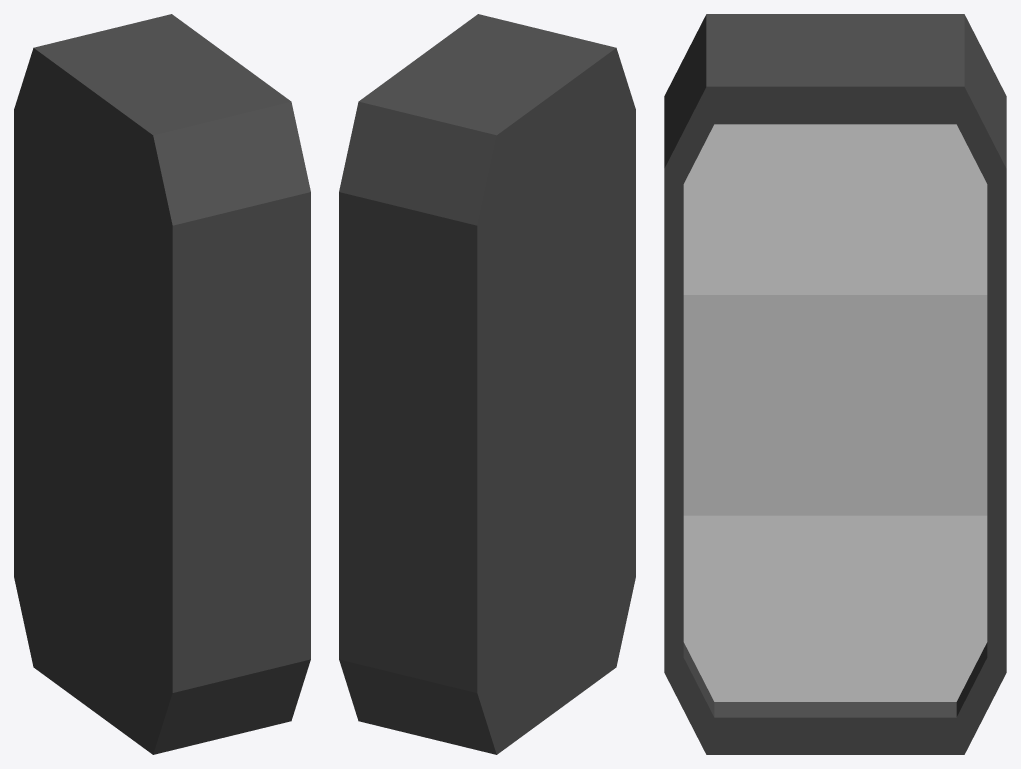
Rendered from info.fbx.
3 views of the same model, side by side, from view 1: azimuth 30°, elevation 25°; view 2: azimuth 150°, elevation 25°; view 3: azimuth 270°, elevation 25° (orthographic). The views are drawn at different scales.
Visible parts, largest first — view 1: Cube; view 2: Cube; view 3: Cube.
Boxes of the visible parts, left/top/right/bottom form: Cube: left=14, top=14, right=310, bottom=754; Cube: left=339, top=14, right=635, bottom=754; Cube: left=664, top=14, right=1006, bottom=754.
Size of the model in its own units: 0.0939 by 0.4021 by 0.1866.
